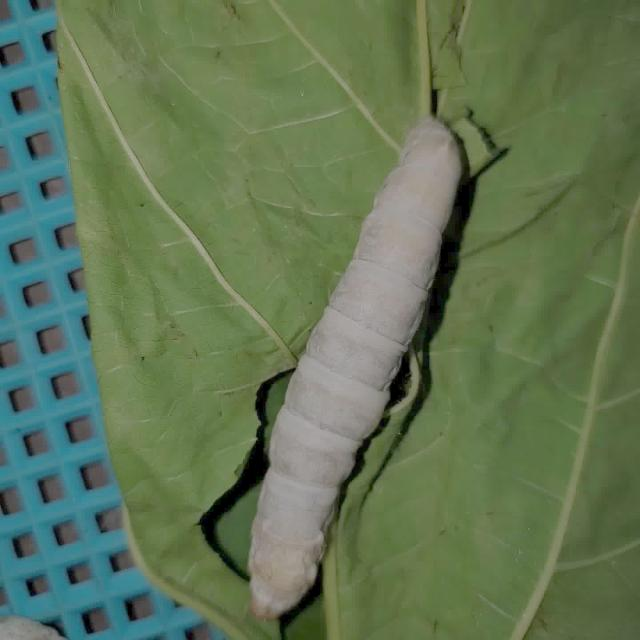Grasserie: (210, 104, 476, 634)
